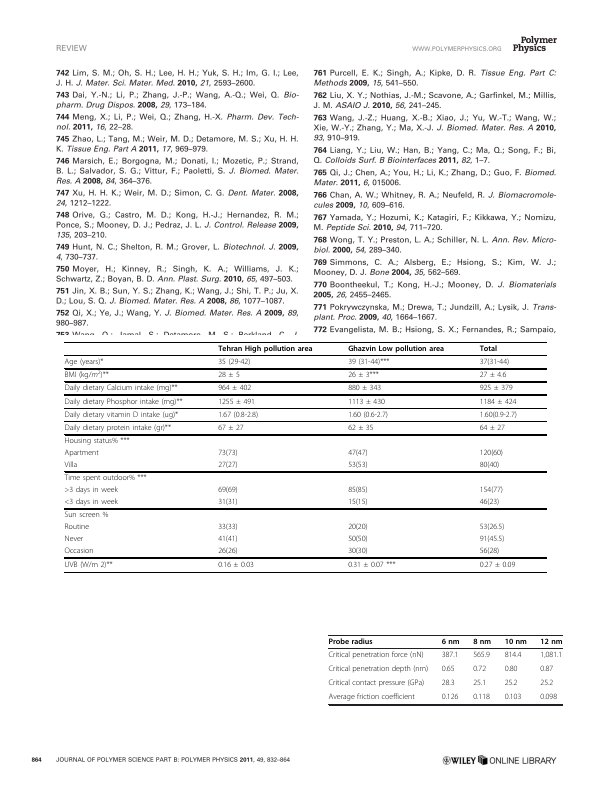borderless: (63, 340, 547, 572), (327, 634, 562, 704)
cell: (64, 397, 184, 406), (64, 423, 172, 433), (64, 384, 179, 393), (64, 410, 179, 419), (328, 665, 429, 674), (347, 344, 445, 353), (328, 679, 425, 688), (328, 651, 424, 660), (217, 344, 313, 353), (328, 693, 416, 702), (64, 474, 147, 483), (64, 436, 130, 446), (64, 497, 119, 507), (63, 369, 110, 380), (64, 486, 119, 495), (64, 560, 113, 569), (347, 560, 396, 569), (347, 357, 390, 367), (63, 357, 104, 367), (64, 511, 109, 520), (217, 410, 259, 419), (347, 410, 389, 419), (328, 638, 374, 646), (64, 448, 100, 458), (217, 397, 256, 406), (347, 397, 386, 406), (479, 410, 518, 419), (479, 397, 517, 406), (217, 560, 255, 569), (217, 357, 251, 367), (479, 560, 516, 569), (347, 370, 380, 380), (217, 384, 252, 393), (347, 384, 382, 393), (479, 384, 514, 393), (479, 357, 510, 367), (479, 370, 507, 380), (217, 423, 244, 433), (347, 423, 374, 433), (479, 423, 506, 433), (64, 547, 94, 556), (479, 448, 504, 458), (217, 370, 241, 380), (64, 523, 90, 532), (479, 523, 505, 532), (479, 535, 505, 544), (479, 486, 504, 495), (217, 448, 239, 458), (217, 460, 239, 470), (217, 497, 239, 507), (539, 651, 563, 660), (347, 448, 368, 458), (347, 460, 368, 470), (479, 460, 500, 470), (347, 497, 368, 507), (479, 497, 500, 507), (217, 486, 239, 495), (217, 523, 239, 532), (217, 535, 239, 544), (217, 547, 239, 556), (504, 638, 528, 646), (539, 638, 563, 646), (347, 486, 368, 495), (347, 523, 368, 532), (347, 535, 368, 544), (347, 547, 368, 556), (479, 547, 500, 556), (64, 535, 84, 544), (472, 651, 491, 660), (472, 693, 491, 702), (539, 693, 558, 702), (479, 344, 498, 353), (441, 651, 459, 660), (504, 651, 522, 660), (441, 693, 459, 702), (504, 693, 522, 702), (472, 638, 492, 646), (441, 638, 460, 646), (64, 460, 78, 470), (472, 665, 487, 674), (539, 665, 554, 674), (472, 679, 487, 688), (539, 679, 554, 688), (441, 665, 455, 674), (504, 665, 518, 674), (441, 679, 455, 688), (504, 679, 518, 688)
